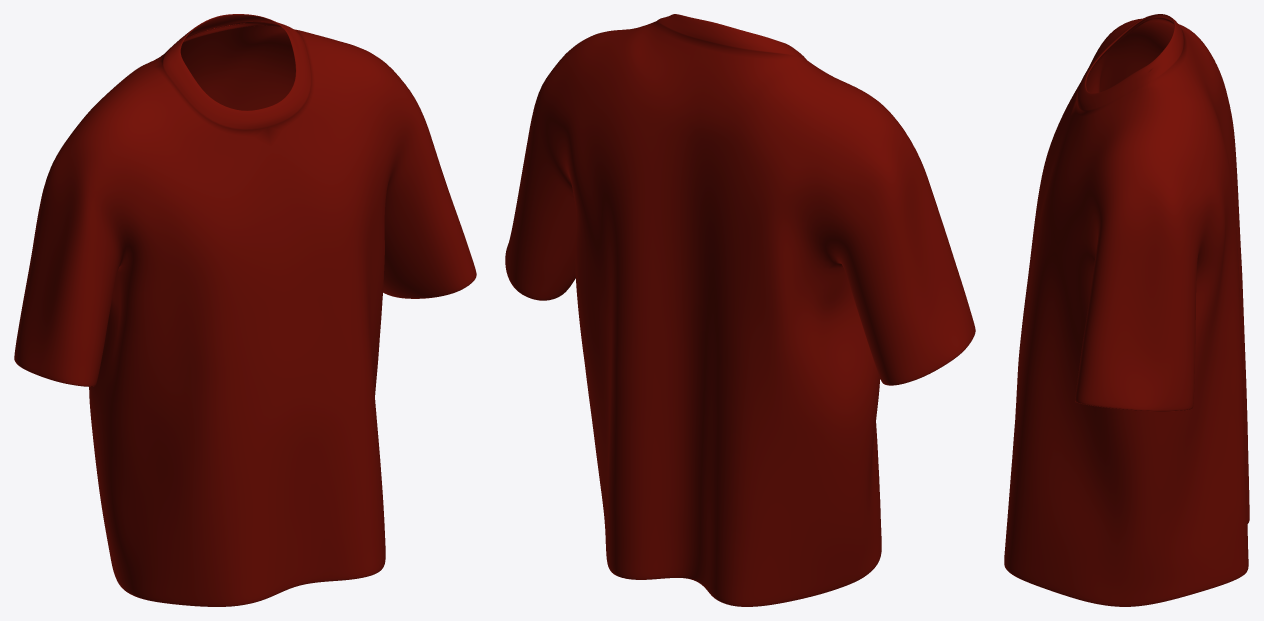
File: home_loc1.glb
3 views of the same model, side by side, from view 1: azimuth 30°, elevation 25°; view 2: azimuth 150°, elevation 25°; view 3: azimuth 270°, elevation 25° (orthographic). The views are drawn at different scales.
Visible parts, largest first — view 1: T-Shirt; view 2: T-Shirt; view 3: T-Shirt.
Boxes of the visible parts, x1,y1,x2,y2 form: T-Shirt: (14, 14, 476, 606); T-Shirt: (505, 14, 975, 606); T-Shirt: (1004, 14, 1249, 606).
Size of the model in its own units: 0.9123 by 1.06 by 0.4489.
